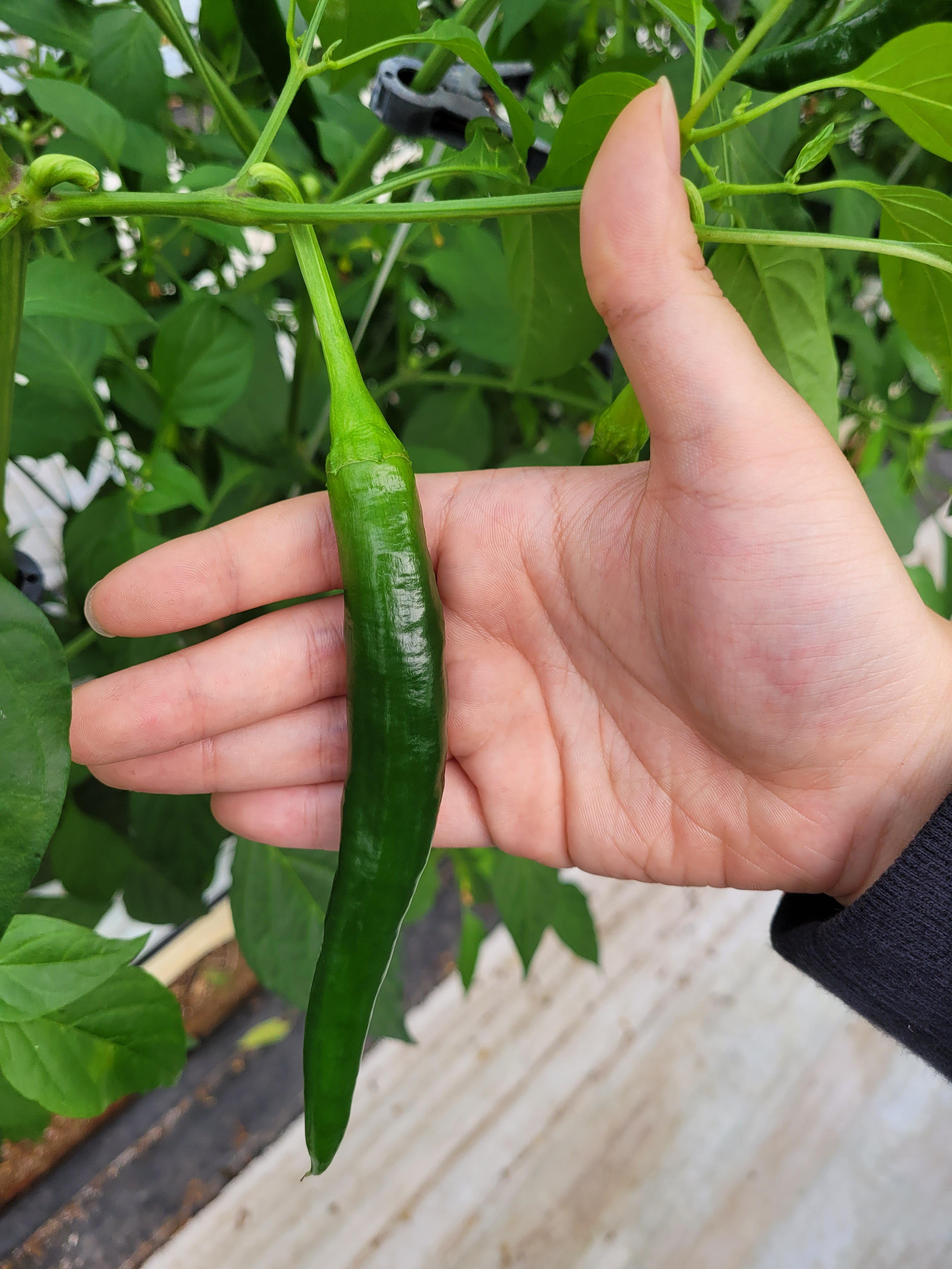Buah Cabai Sehat: (293, 366, 450, 1170)
